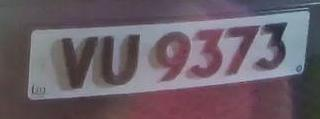3: (186, 24, 230, 82), (255, 18, 291, 75)
7: (222, 22, 265, 78)
9: (153, 24, 194, 87)
U: (101, 26, 143, 89)
V: (49, 28, 106, 94)
